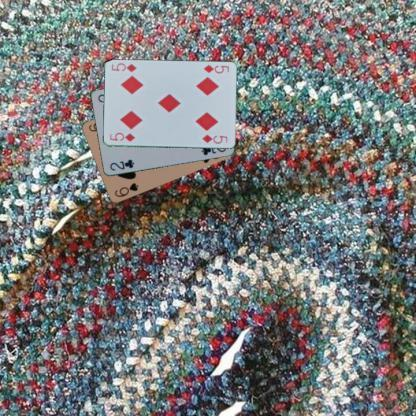2c: (107, 157, 136, 172)
5d: (107, 130, 136, 143), (201, 62, 230, 74)
6s: (112, 180, 139, 198)
